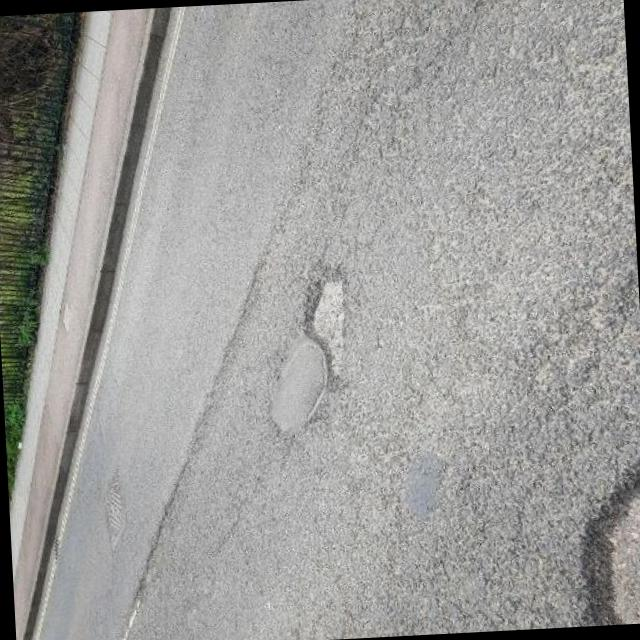pothole: (564, 439, 640, 626), (290, 259, 363, 379)
